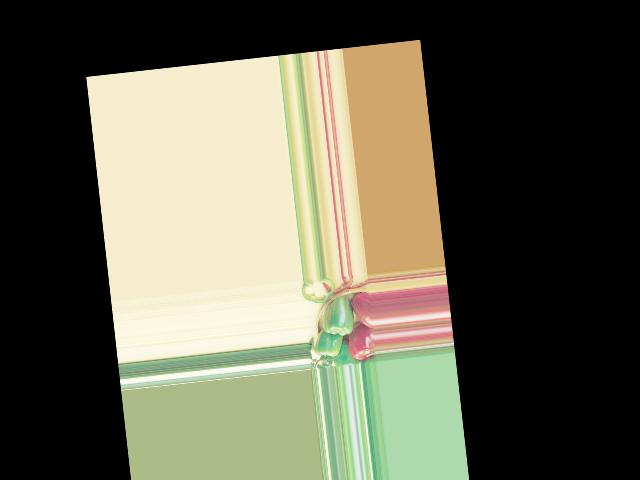bell_pepper: (352, 291, 372, 330)
